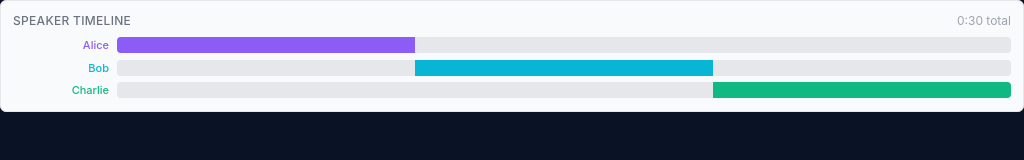
Test: SpeakerTimeline include filter › selecting a second speaker shows both selected speakers' bars
Click the button "Alice". click: coordinates (61, 45)
box: [13,37,109,54]
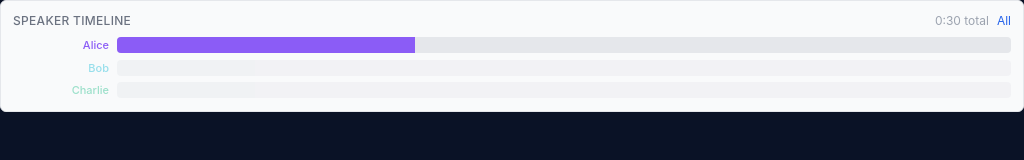
Click the button "Bob". click: coordinates (61, 68)
box: [13,60,109,76]
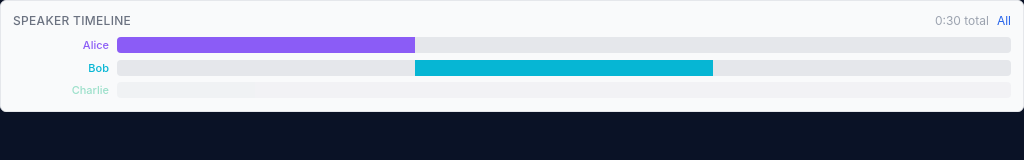
Expected: the button titled "Alice: 0:00 → 0:10" is shown, [117,37,415,53]
Now the button titled "Bob: 0:10 → 0:20" is shown, box [415,60,713,76]
